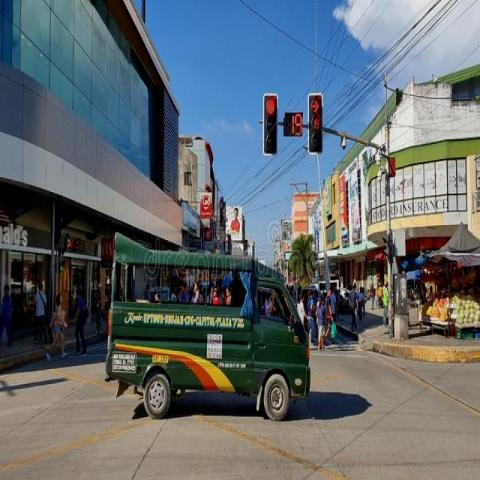jeepney: (100, 214, 326, 444)
